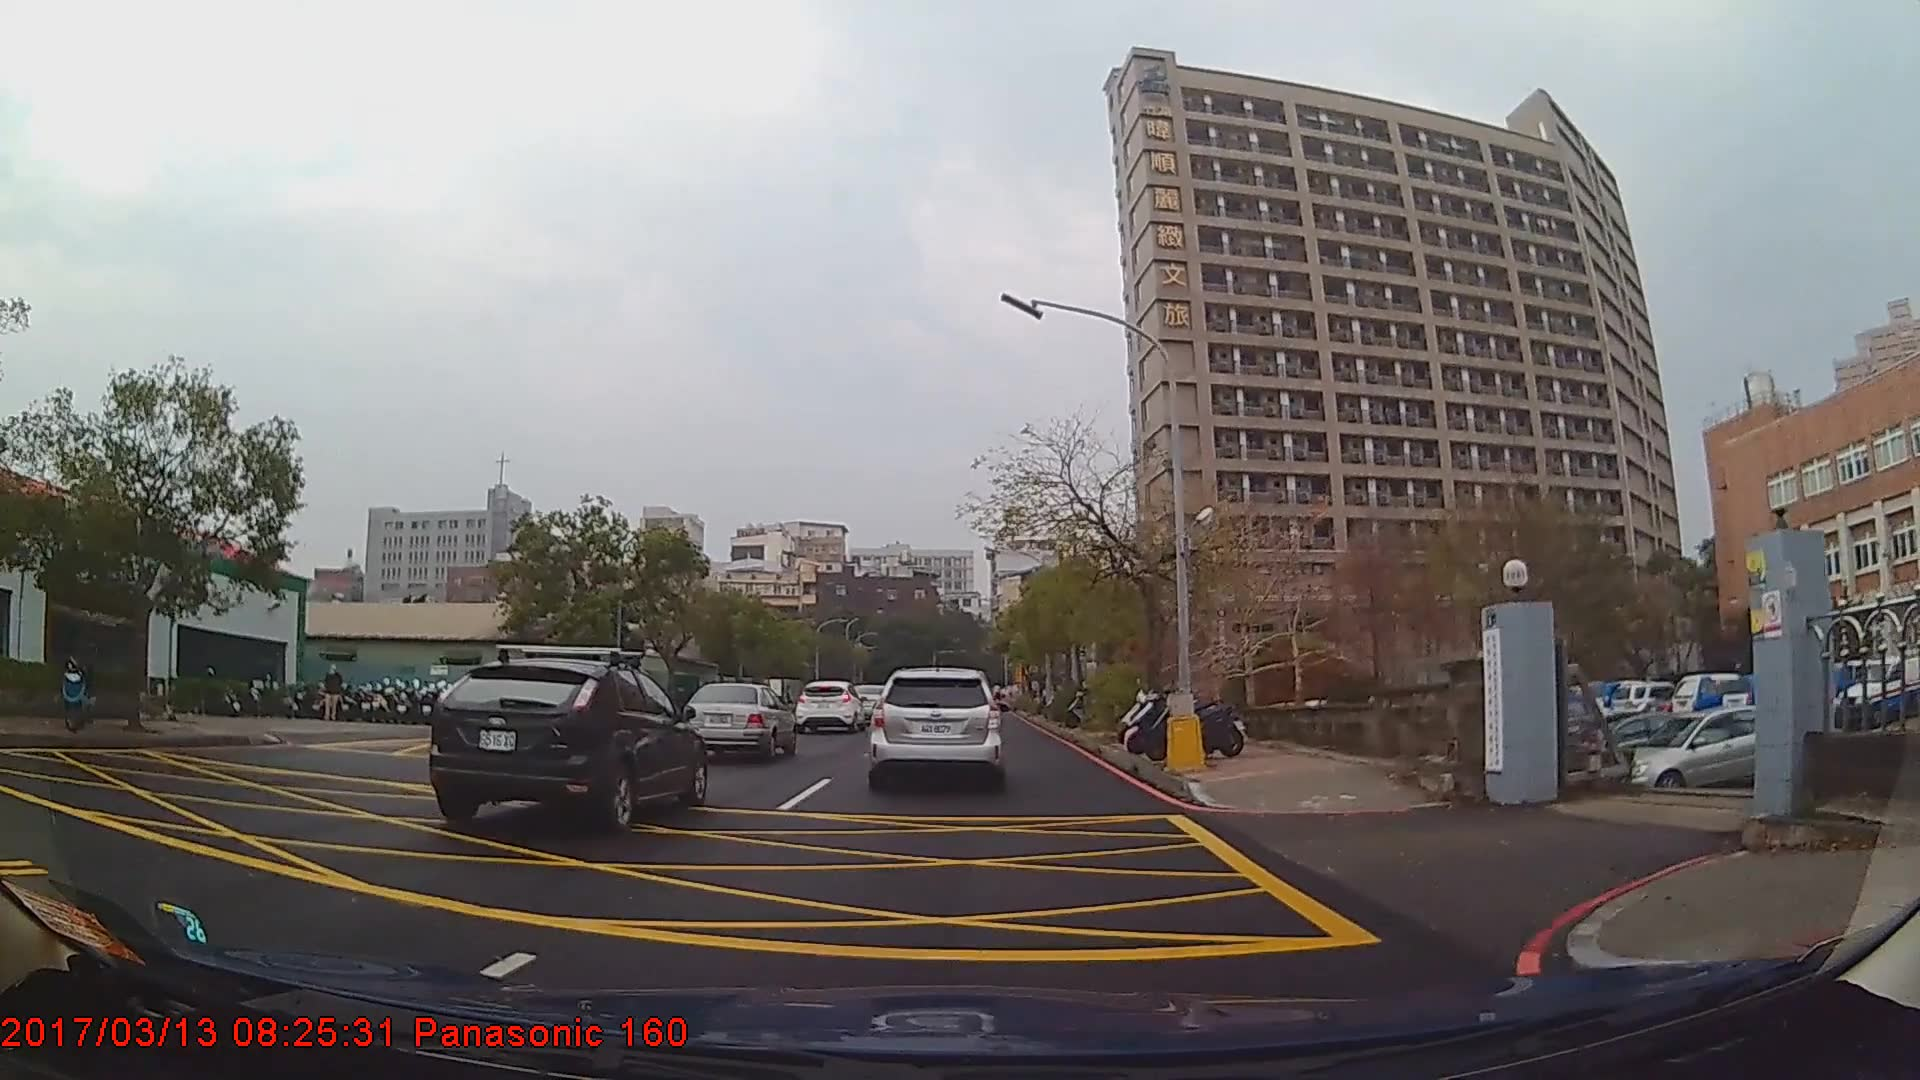pedestrian: (324, 663, 344, 721)
vehicle: (425, 655, 705, 833), (1612, 705, 1802, 791), (868, 665, 1000, 787), (679, 680, 797, 761), (794, 679, 865, 734)
